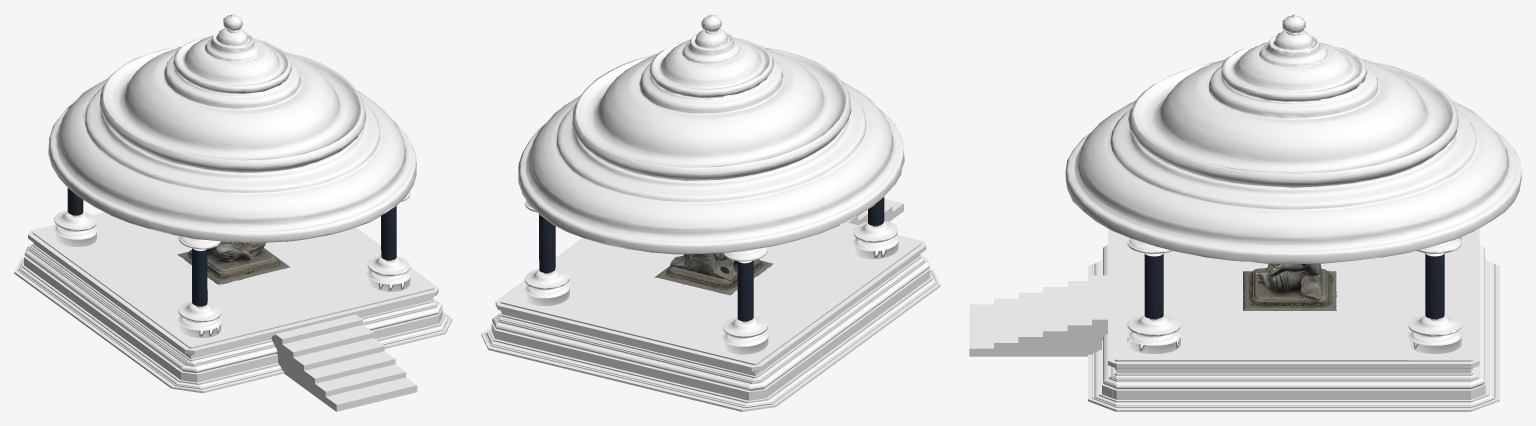
File: temple.glb
3 views of the same model, side by side, from view 1: azimuth 30°, elevation 25°; view 2: azimuth 150°, elevation 25°; view 3: azimuth 270°, elevation 25° (orthographic). The views are drawn at different scales.
Parts seen in each view (by area): view 1: Cube, Cube.003, Cube.001, Mesh_0; view 2: Cube, Cube.003, Cube.001, Mesh_0; view 3: Cube, Cube.003, Cube.001, Mesh_0.
Boxes of the visible parts, box(x1,y1,x2,y2) form: Cube: box(48, 14, 416, 242); Cube.003: box(14, 212, 452, 411); Cube.001: box(54, 188, 410, 337); Mesh_0: box(177, 241, 289, 284); Cube: box(518, 14, 904, 254); Cube.003: box(481, 199, 940, 411); Cube.001: box(524, 197, 898, 354); Mesh_0: box(655, 253, 773, 295); Cube: box(1065, 14, 1521, 264); Cube.003: box(969, 228, 1499, 411); Cube.001: box(1127, 237, 1461, 353); Mesh_0: box(1243, 263, 1336, 310).
Bounding box in the file's own units: 31.23 × 27.39 × 42.88.
6 materials, 1 textured.
